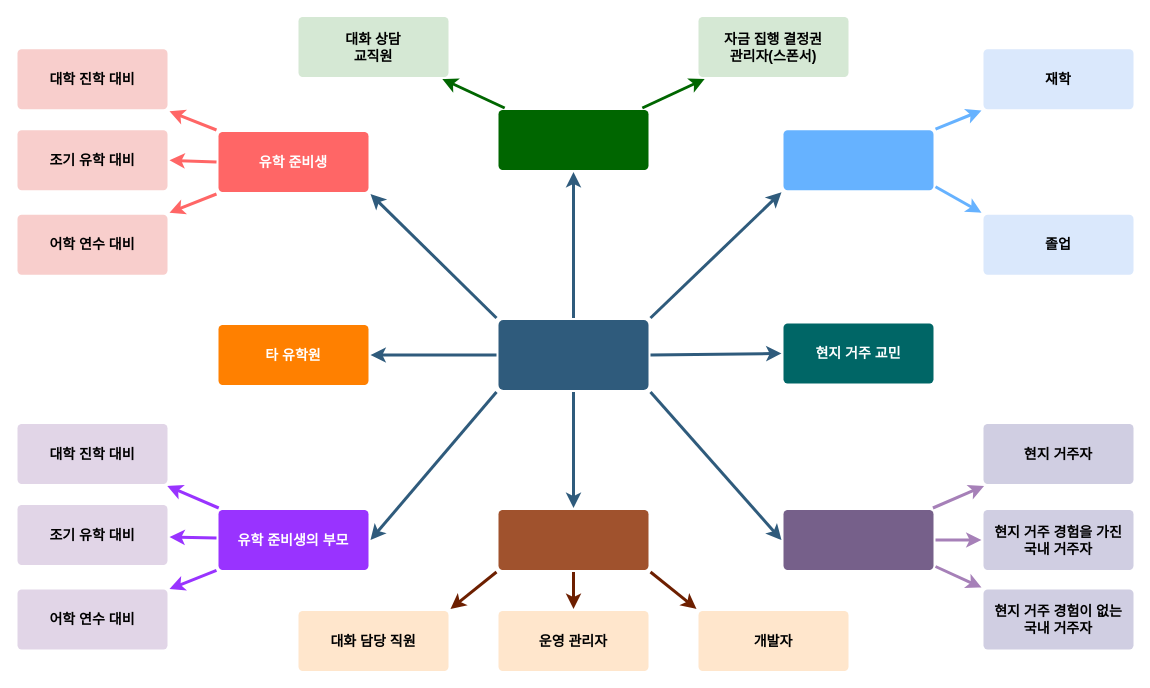
Image size: 1150x688. Some labels were removed from this diagram. Here are the shapes that lost their labels. From the top down, the centre of each, then its label:
At point (573, 140): "해외 대학 관계자".
At point (858, 160): "현지 유학생".
At point (573, 355): "ARGO User".
At point (573, 540): "ARGO 관계자".
At point (858, 540): "현지 유학생의 부모".
